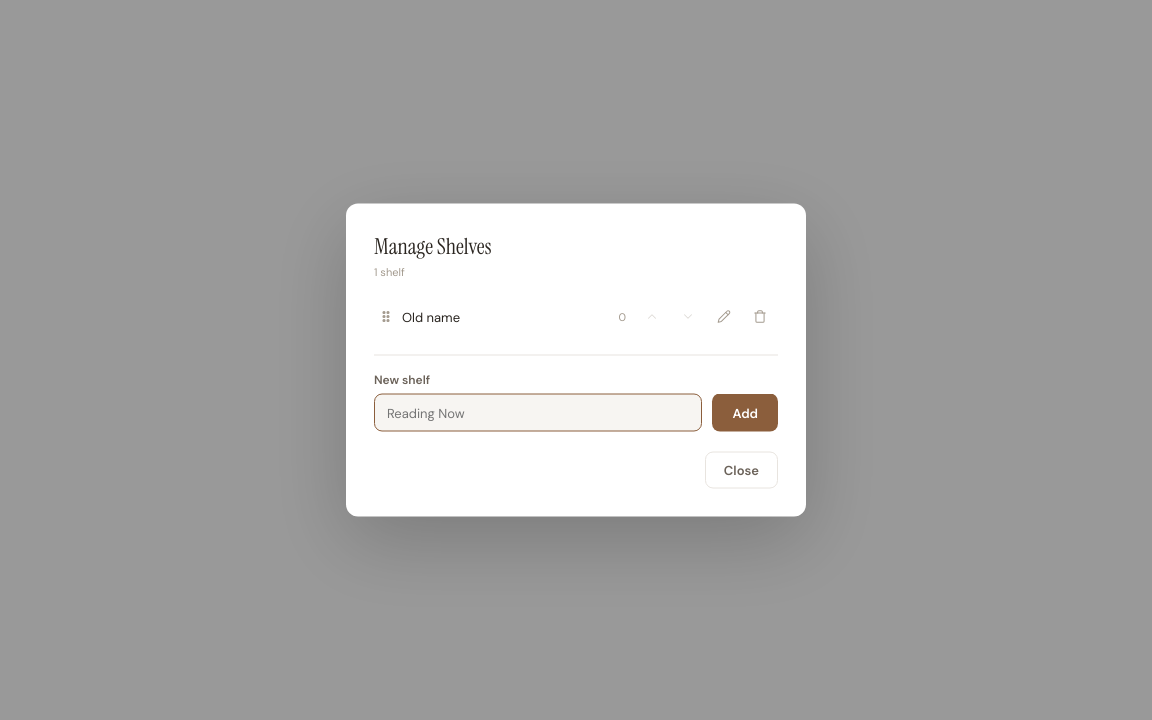
ShelfManager › throws away an edit when it is cancelled, and writes nothing
This screenshot has width=1152, height=720.
Expected: the text "Old name" is shown, 402,308 -> 460,325
Click the button named "Edit Old name".
click(724, 316)  # box 710,302 -> 738,330
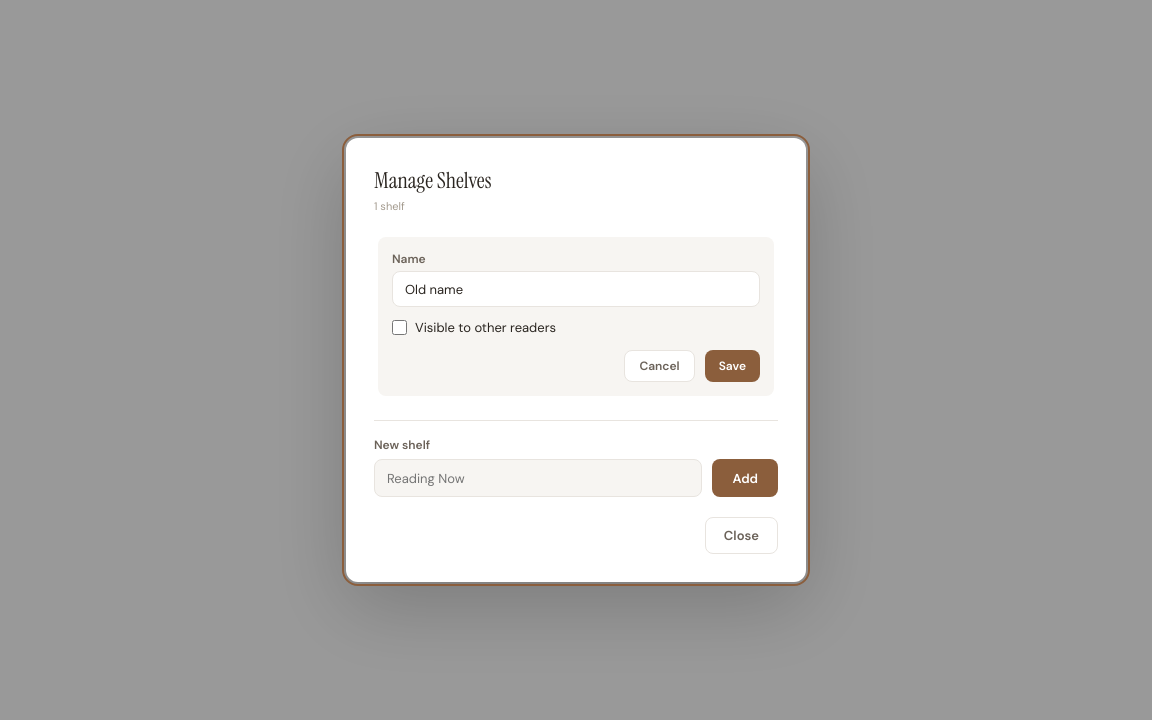
Replace the text in the field labelled "Name" with "Abandoned" at (576, 289), box 392,271 -> 760,307
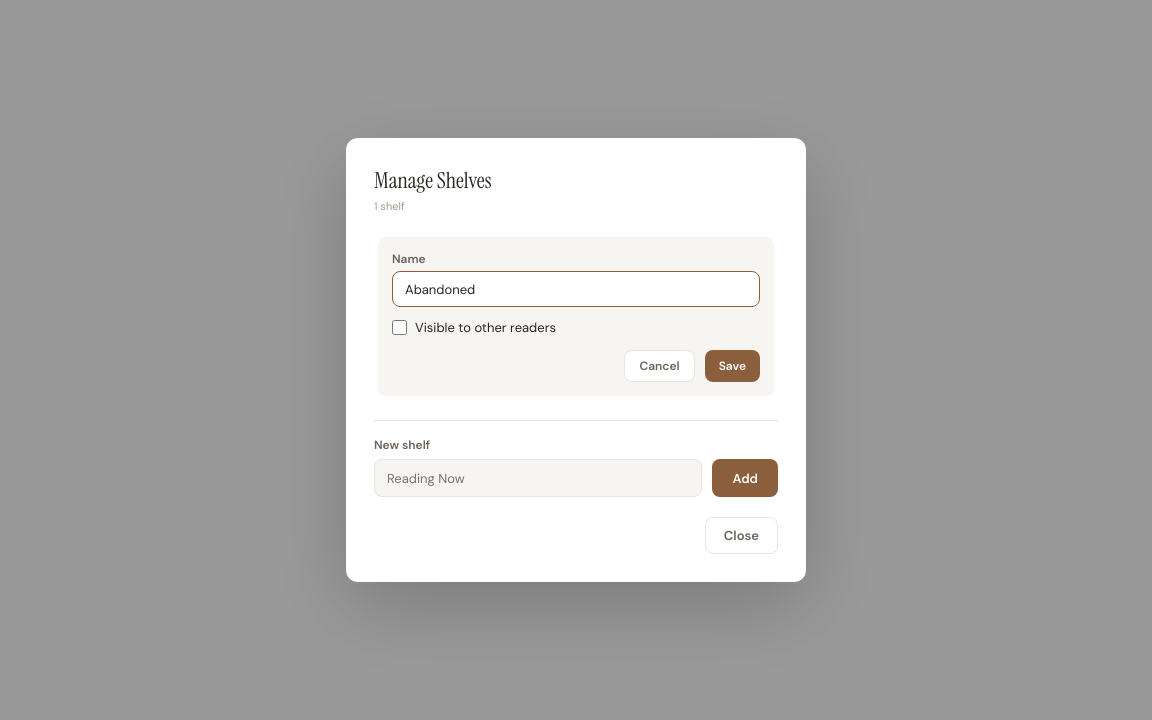
Click the checkbox labelled "Visible to other readers".
click(400, 328)  # box 392,320 -> 407,335
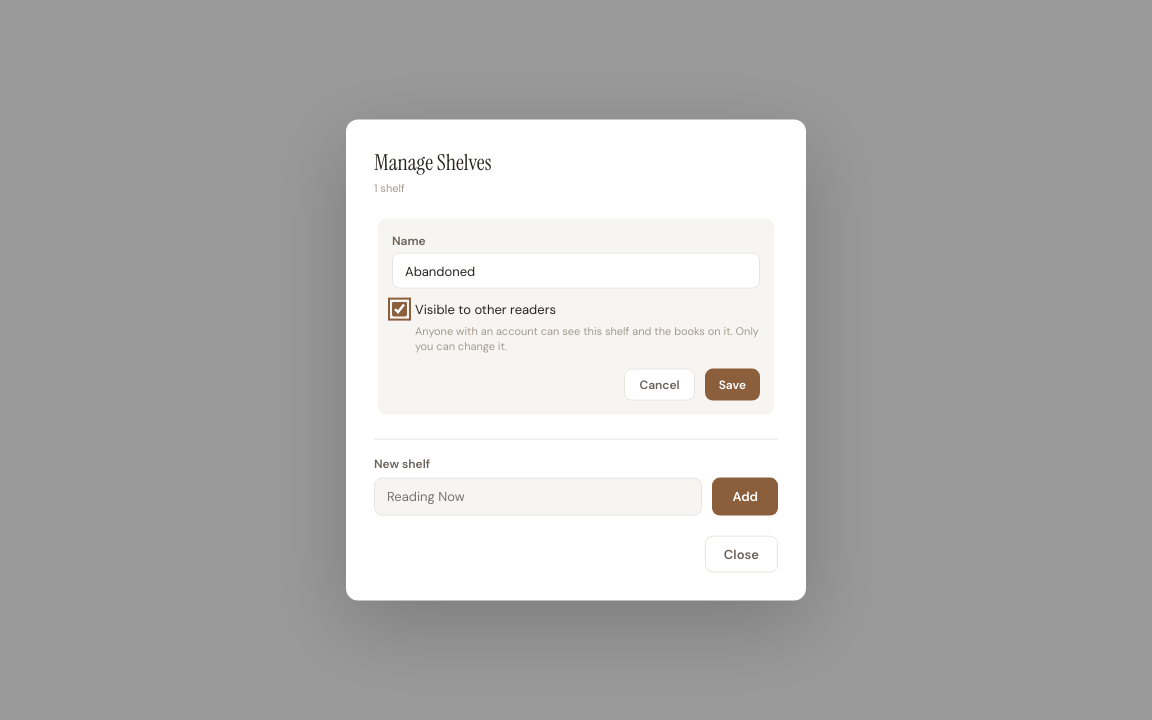
Click the button "Cancel".
click(660, 384)  # box 624,368 -> 695,400
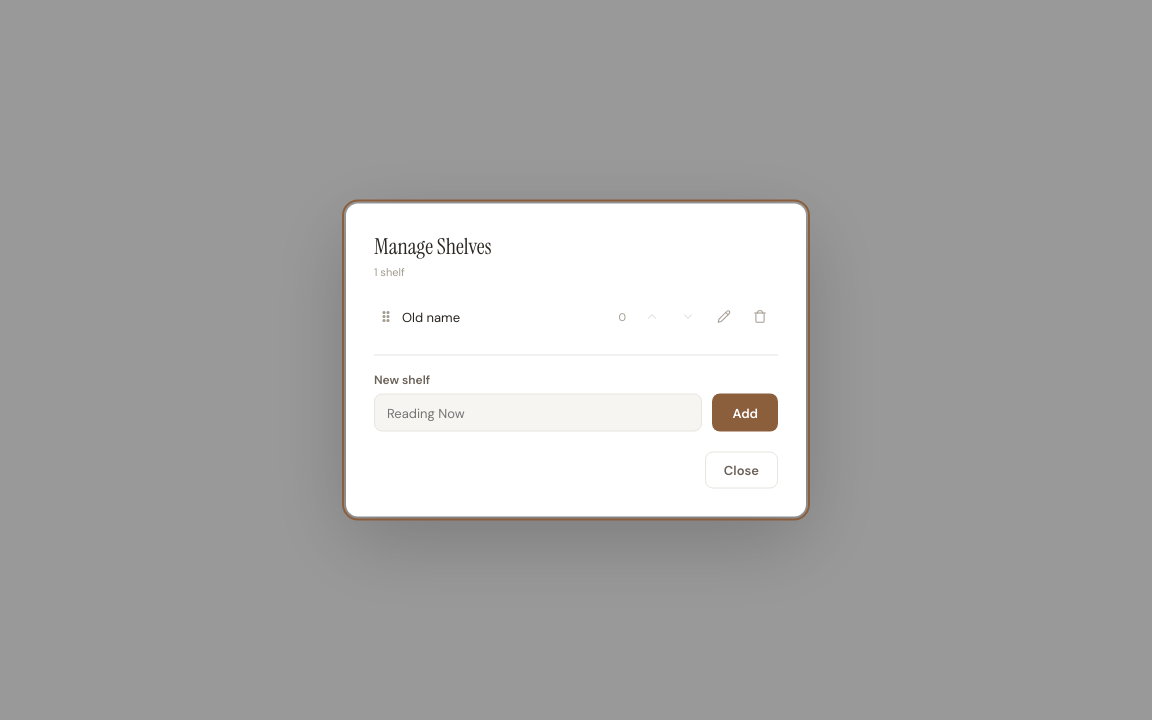
Expected: the text "Abandoned" is not shown
Now the text "Old name" is shown, box 402,308 -> 460,325
